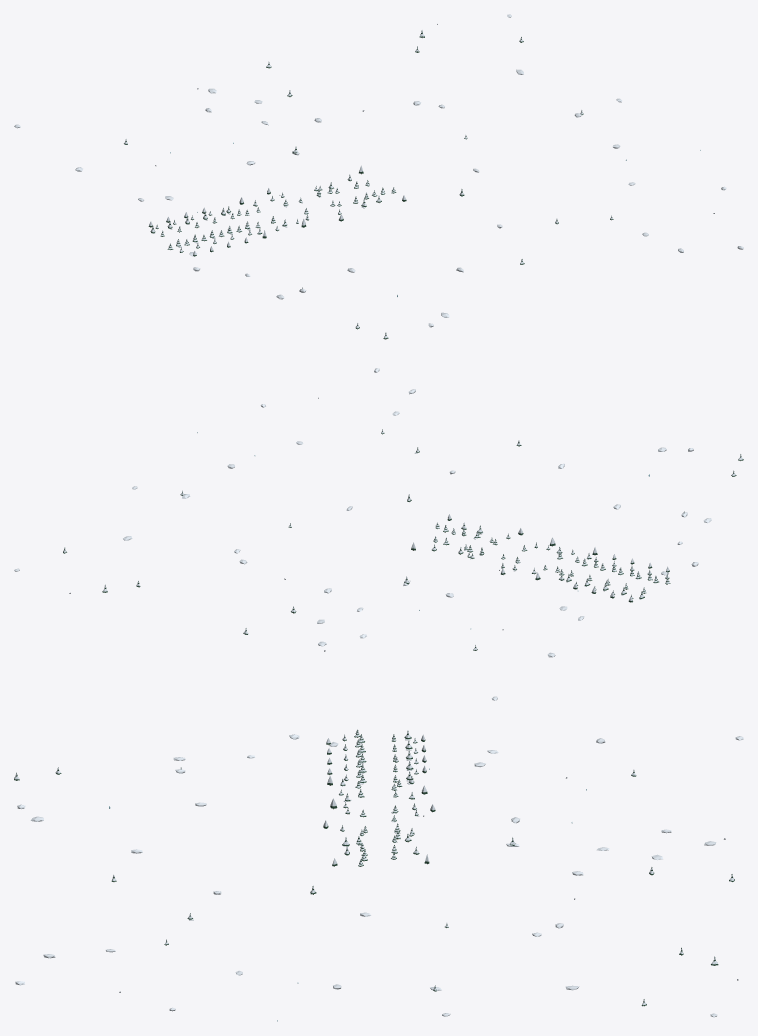
The model's file is Fill_-1_0.fbx.
3 views of the same model, one above another, from view 1: azimuth 30°, elevation 25°; view 2: azimuth 150°, elevation 25°; view 3: azimuth 270°, elevation 25° (orthographic). The views are drawn at different scales.
Visible parts, largest first — view 1: Fill_-1_0; view 2: Fill_-1_0; view 3: Fill_-1_0.
Part boxes in pixels (box(x1,y1,x2,y2)): Fill_-1_0: box(14, 14, 743, 339); Fill_-1_0: box(14, 368, 743, 700); Fill_-1_0: box(14, 729, 743, 1021).
Size of the model in its own units: 55448 by 1503 by 59158.
